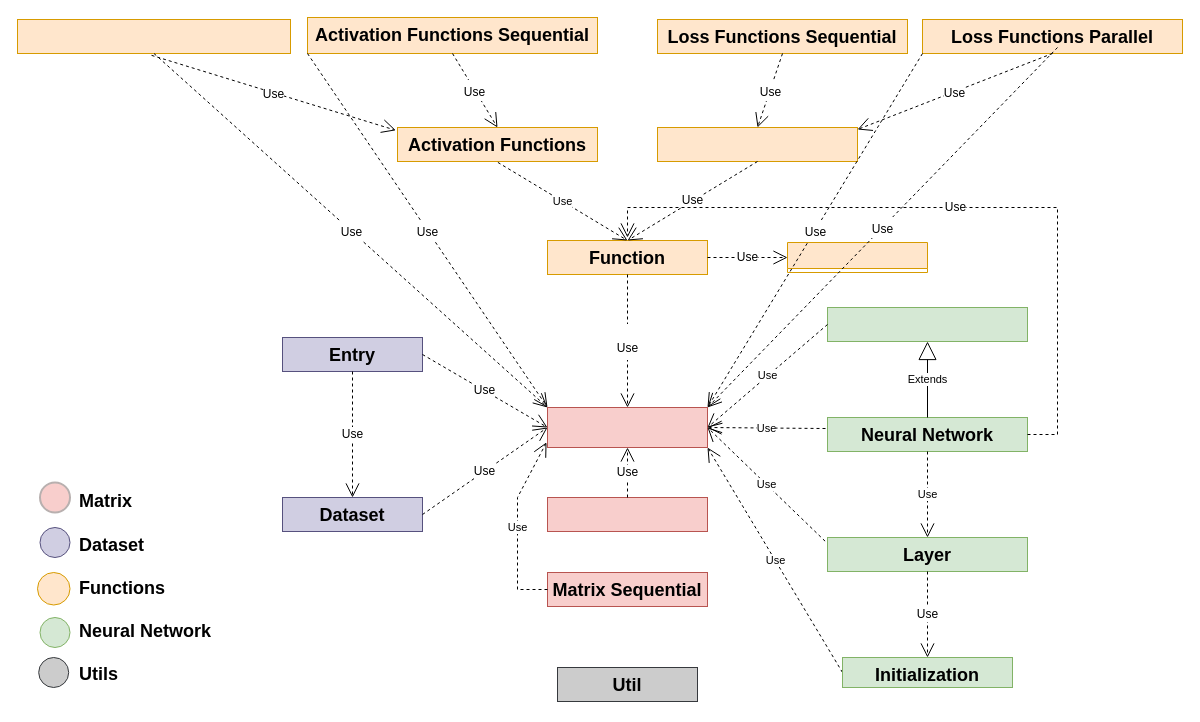
The diagram is 1200 pixels wide and 722 high, and some of its shapes have lost their labels. Each missing label, with the centre of its shape:
Activation Functions Parallel: the point at 153,36
Function Type: the point at 857,257
Loss Functions: the point at 757,144
Matrix: the point at 627,427
Matrix Parallel: the point at 627,514
Model: the point at 927,324
